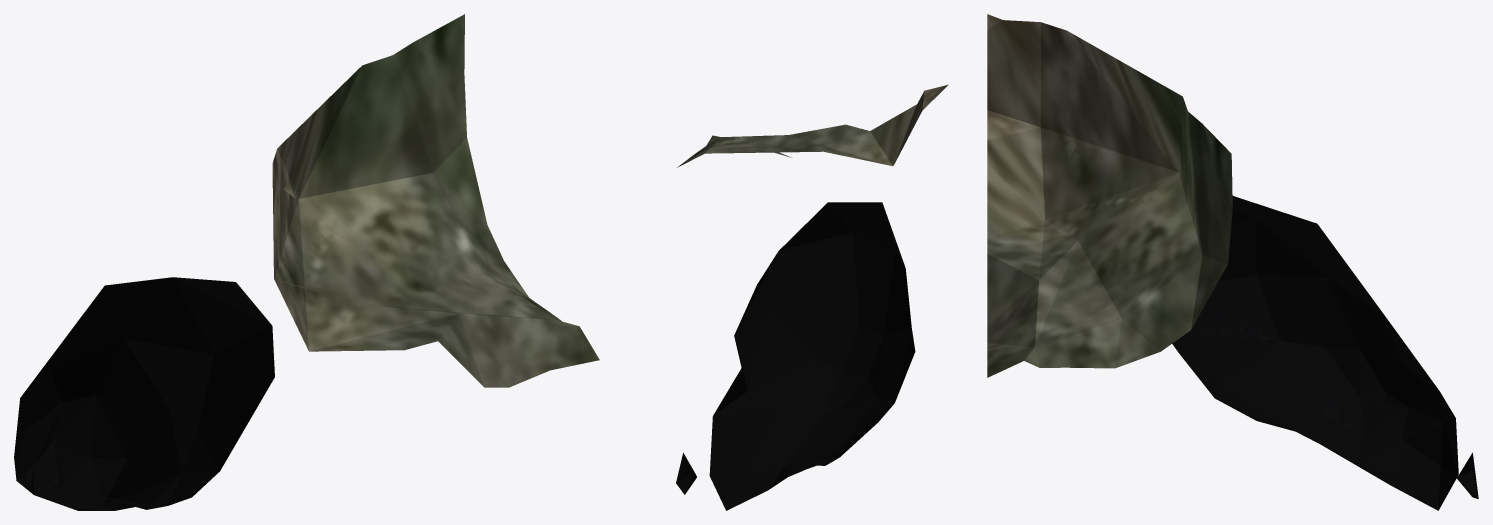
The picture shows the model from 3 angles, left to right: view 1: azimuth 30°, elevation 25°; view 2: azimuth 150°, elevation 25°; view 3: azimuth 270°, elevation 25°; orthographic projection. The views are drawn at different scales.
Size of the model in its own units: 1.83 by 2.21 by 2.11.
Materials: 2 (2 with a texture image).
